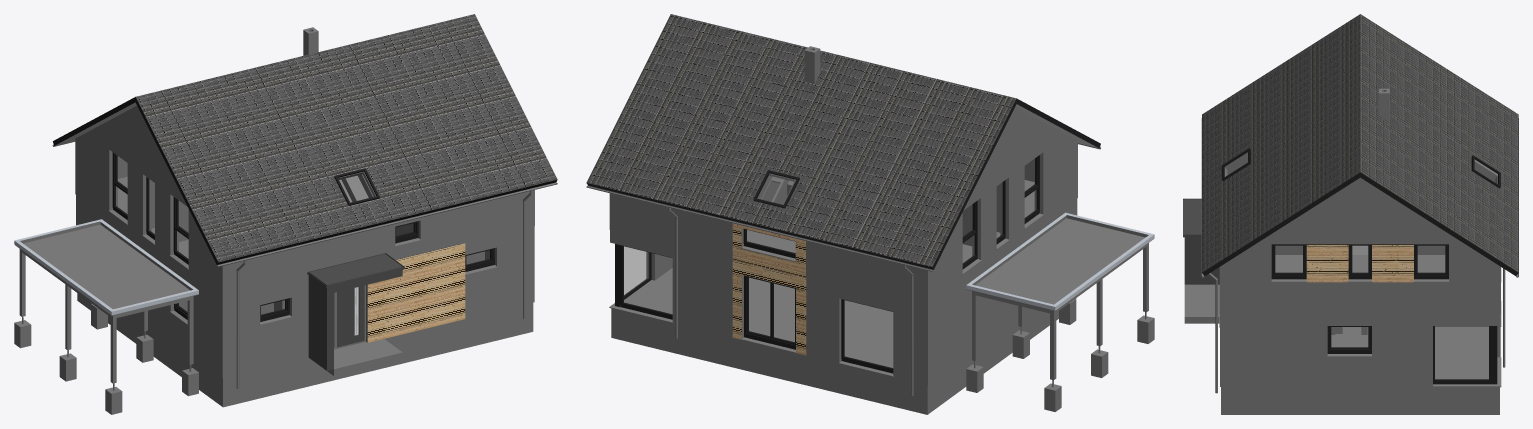
The model's file is model.3faefc_lod1_uncompressed_ktx.gltf.
The picture shows the model from 3 angles, left to right: view 1: azimuth 30°, elevation 25°; view 2: azimuth 150°, elevation 25°; view 3: azimuth 270°, elevation 25°; orthographic projection. The views are drawn at different scales.
Bounding box in the file's own units: 15.51 × 9.62 × 11.26.
28 materials, 8 textured.
